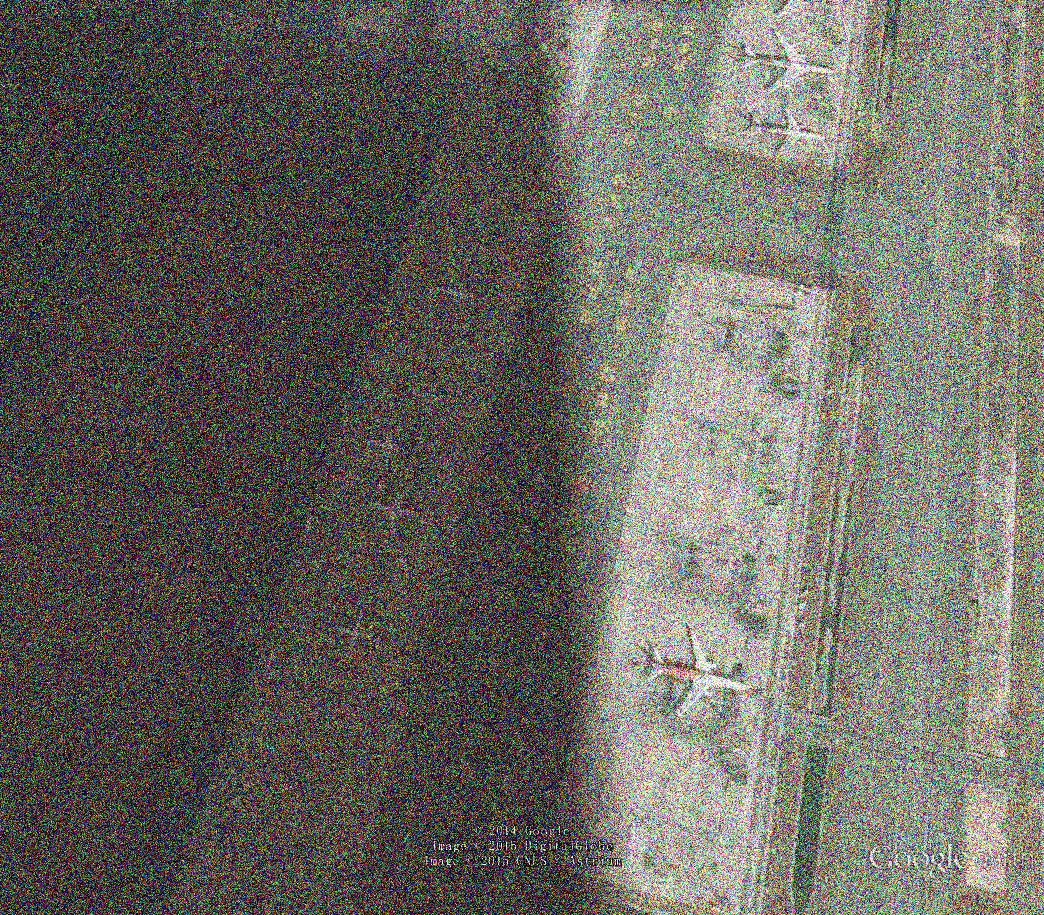aircraft: (643, 626, 756, 722), (737, 28, 840, 97), (742, 102, 830, 157), (358, 418, 428, 479), (366, 479, 432, 540), (404, 372, 463, 429), (435, 271, 496, 319), (334, 608, 385, 661), (528, 27, 573, 63)
